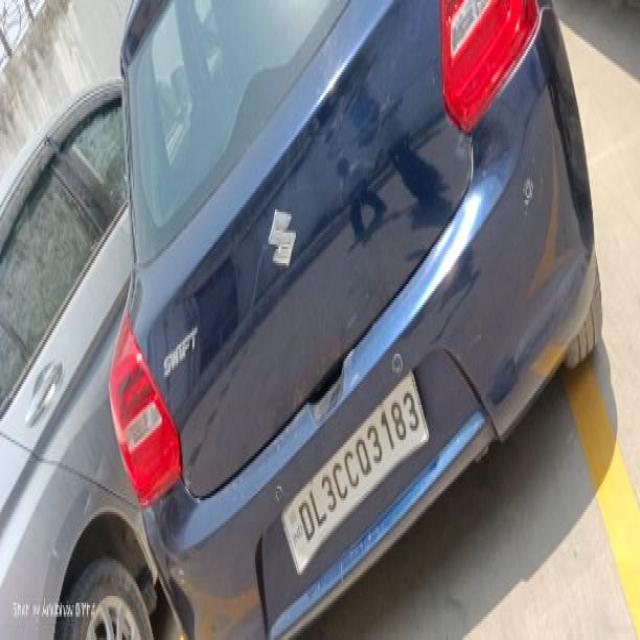license_plate: (279, 365, 429, 575)
